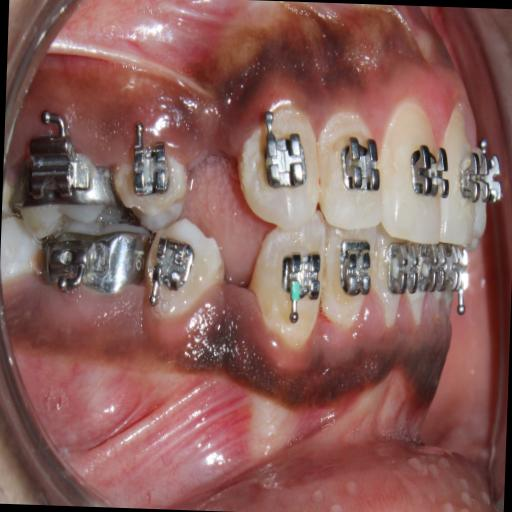correct_brace: (114, 138, 196, 237), (259, 130, 308, 198), (338, 129, 380, 198), (412, 143, 448, 198)
incorrect_brace: (316, 105, 382, 227), (126, 139, 172, 194)
